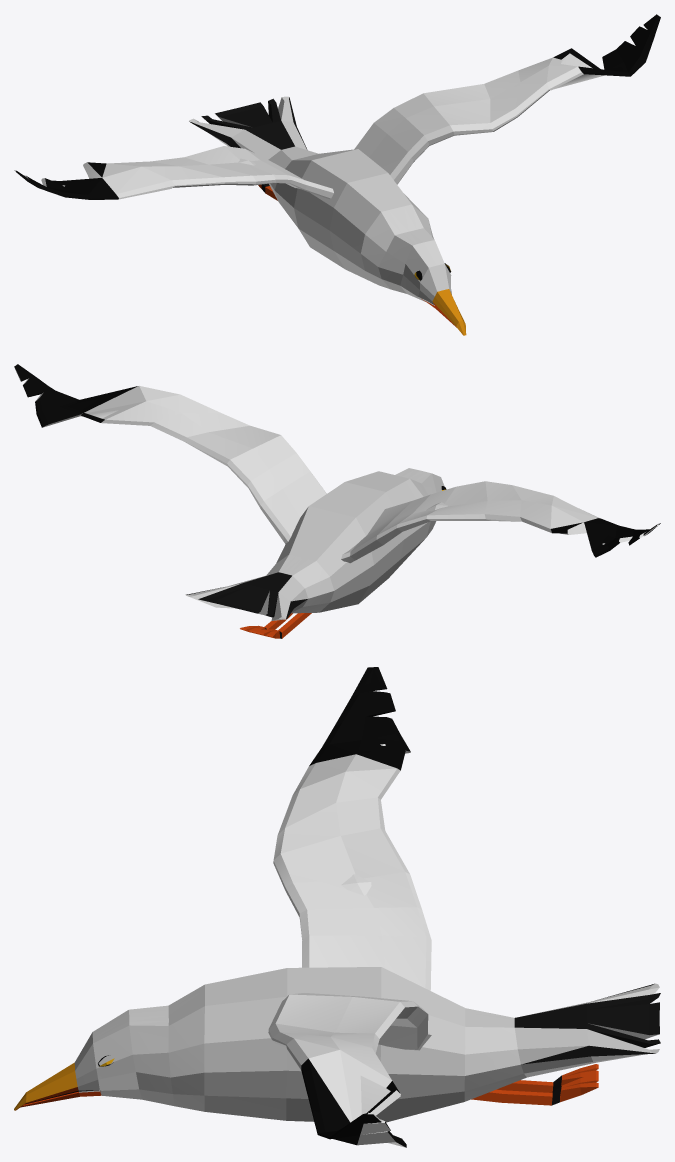
File: seagull.obj
3 renders of one model, top to bottom at view 1: azimuth 30°, elevation 25°; view 2: azimuth 150°, elevation 25°; view 3: azimuth 270°, elevation 25°, orthographic. The views are drawn at different scales.
Visible parts, largest first — view 1: Cube.001, Cube.004, Cube.003; view 2: Cube.001, Cube.004, Cube.003, Cube.002; view 3: Cube.001, Cube.003, Cube.004, Cube.002.
Boxes of the visible parts, <box> form: Cube.001: <box>189,96,466,335</box>; Cube.004: <box>354,14,660,184</box>; Cube.003: <box>14,146,333,199</box>; Cube.001: <box>186,468,444,620</box>; Cube.004: <box>14,364,326,543</box>; Cube.003: <box>341,481,660,563</box>; Cube.002: <box>240,613,311,638</box>; Cube.001: <box>14,967,660,1122</box>; Cube.003: <box>273,667,431,990</box>; Cube.004: <box>268,993,431,1147</box>; Cube.002: <box>471,1064,598,1105</box>.
Bounding box in the file's own units: 12.44 × 2.83 × 7.59.
